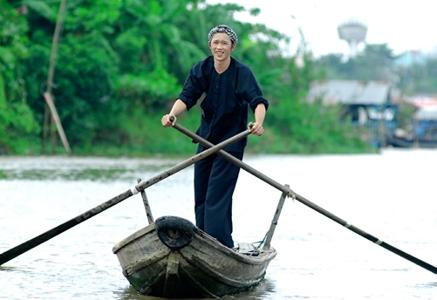person: (163, 25, 270, 251)
